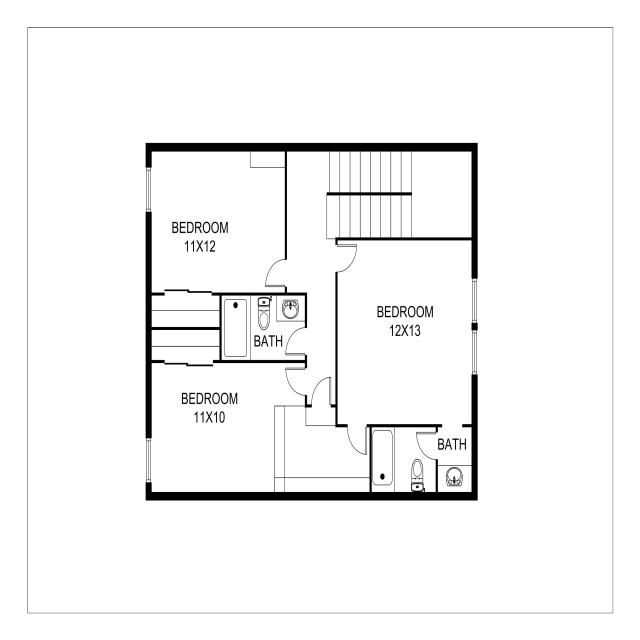Door: (308, 375, 334, 410), (332, 242, 358, 276), (345, 423, 368, 458), (263, 257, 288, 289), (415, 431, 439, 464), (283, 326, 309, 356)
OuterWall: (149, 147, 476, 497)
Wall: (286, 147, 286, 293)
Window: (470, 327, 480, 378), (144, 435, 154, 485), (144, 166, 154, 214), (470, 274, 478, 325)
